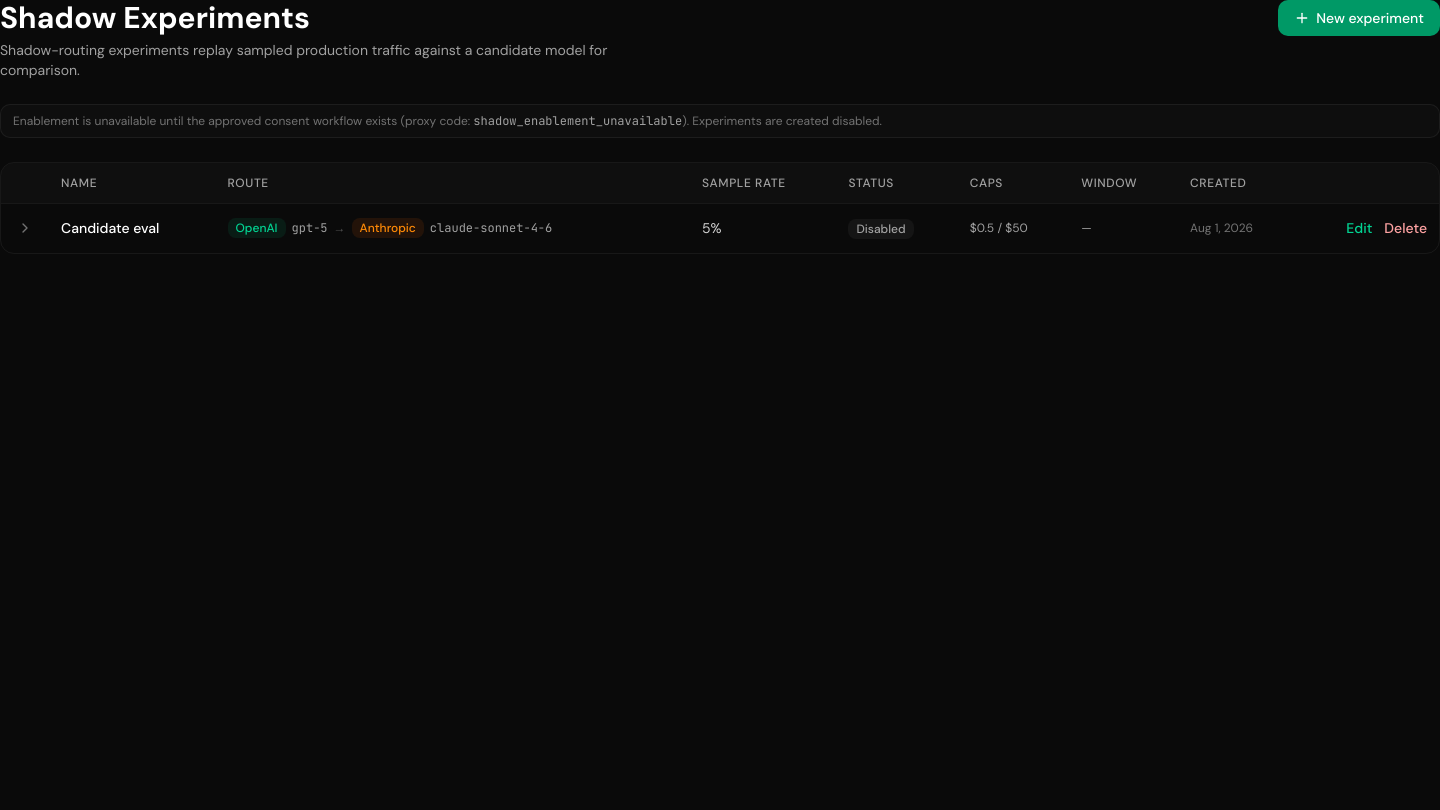
Scenario: ShadowExperimentsClient proxy states › surfaces a flat-string proxy error verbatim in the delete dialog (not the fallback)
The image size is (1440, 810).
Expected: the text "Candidate eval" is shown, x1=49 y1=203 x2=216 y2=252
Step 1. Click the button with aria-label "Delete Candidate eval" → [1406, 228], box x1=1384 y1=218 x2=1427 y2=238
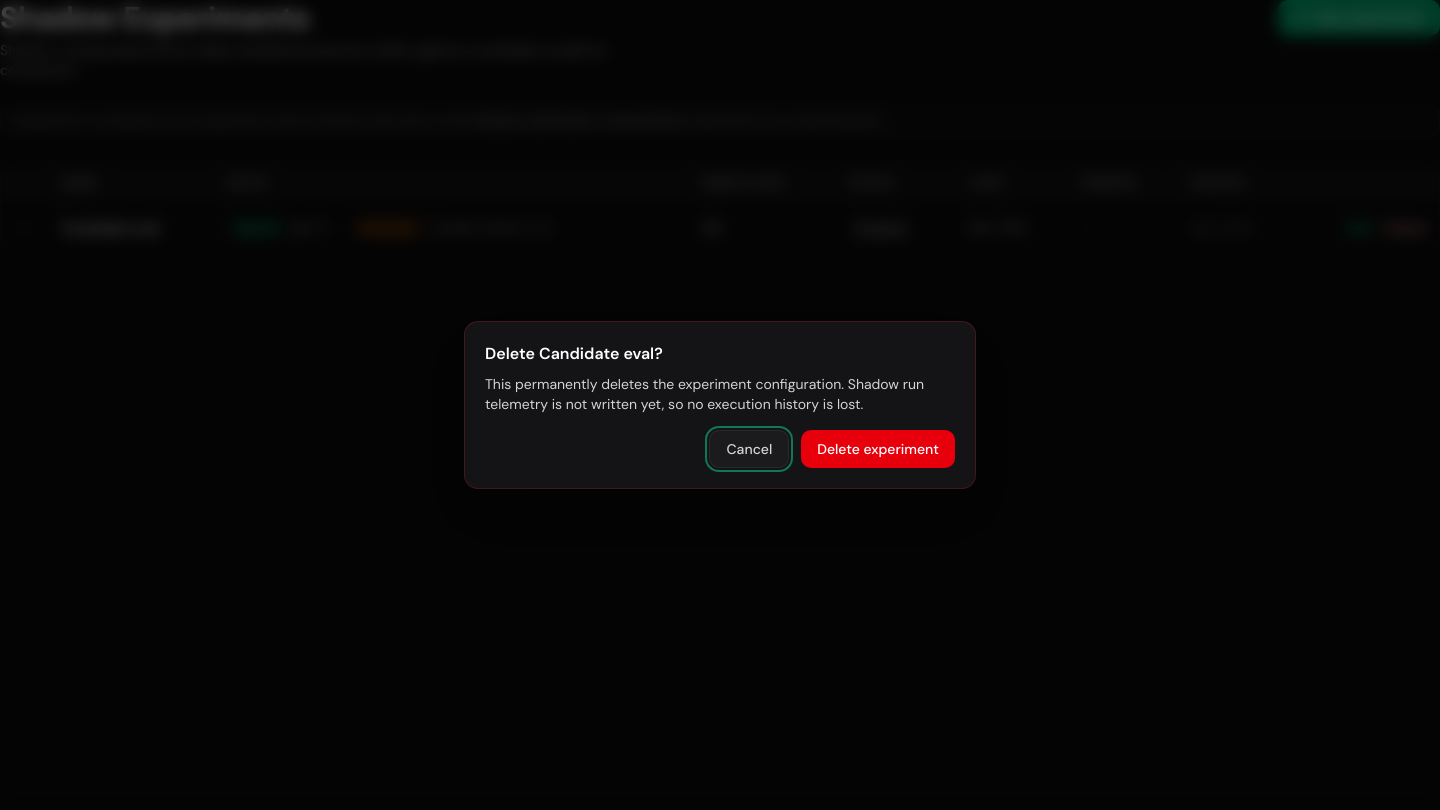
Expected: the dialog is shown, x1=464 y1=321 x2=976 y2=489
Step 2. Click the button with aria-label "Confirm delete Candidate eval" → [878, 449], box x1=801 y1=430 x2=955 y2=468
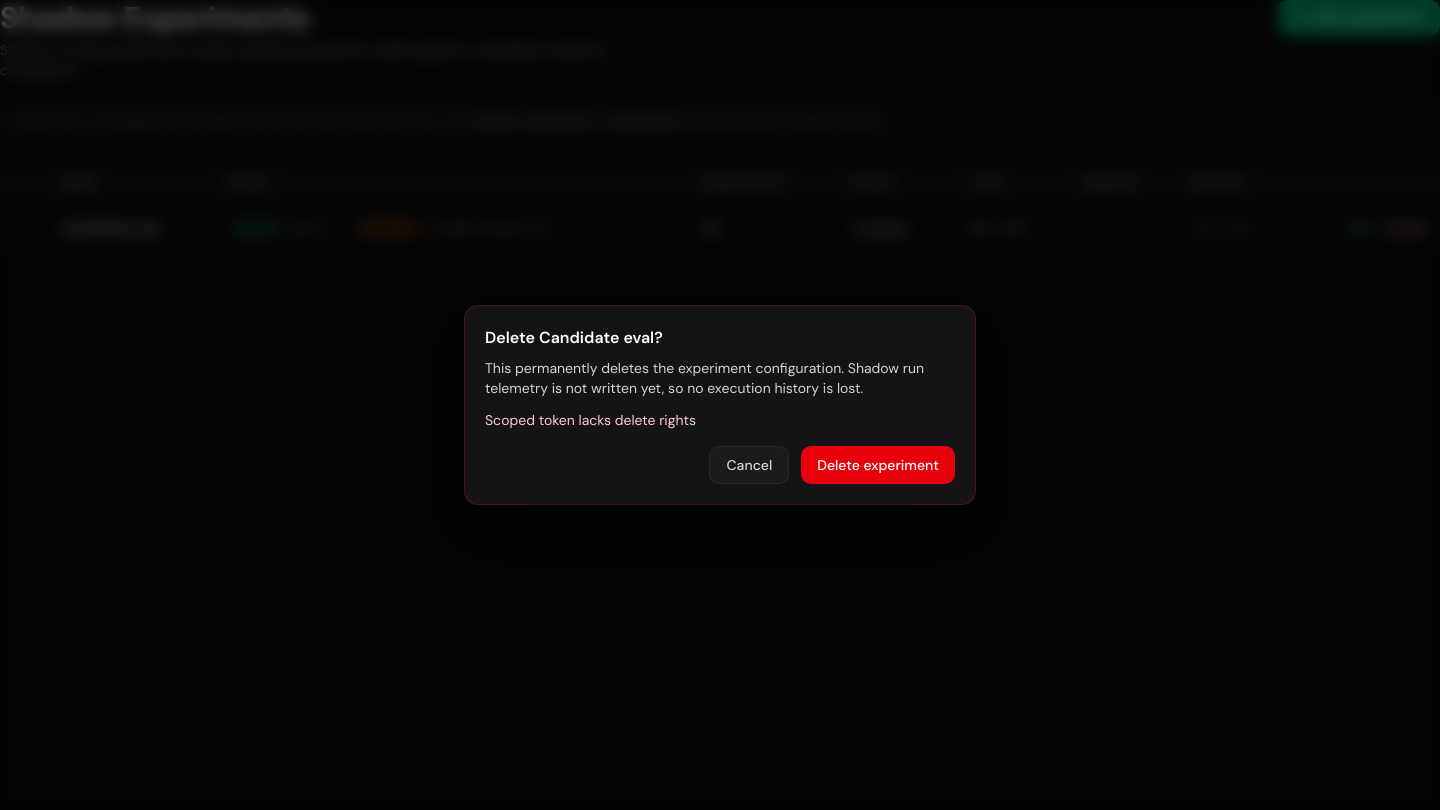
Expected: the text "Scoped token lacks delete rights" is shown, x1=485 y1=411 x2=696 y2=429
